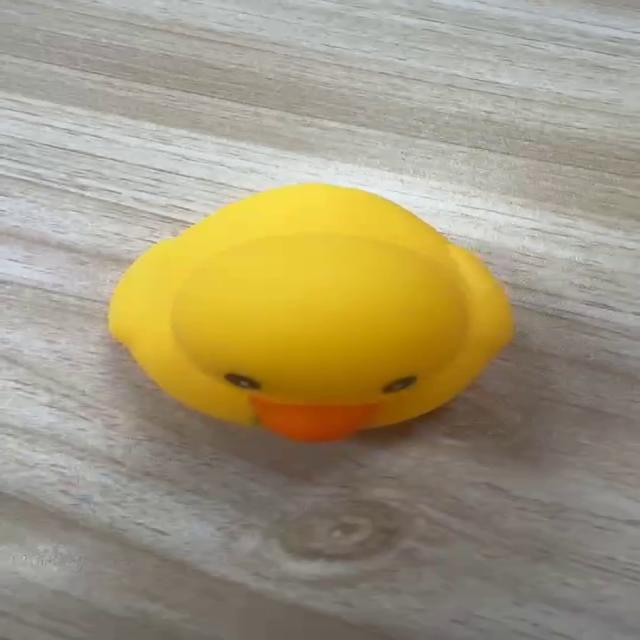yellow_duck: (104, 181, 516, 443)
